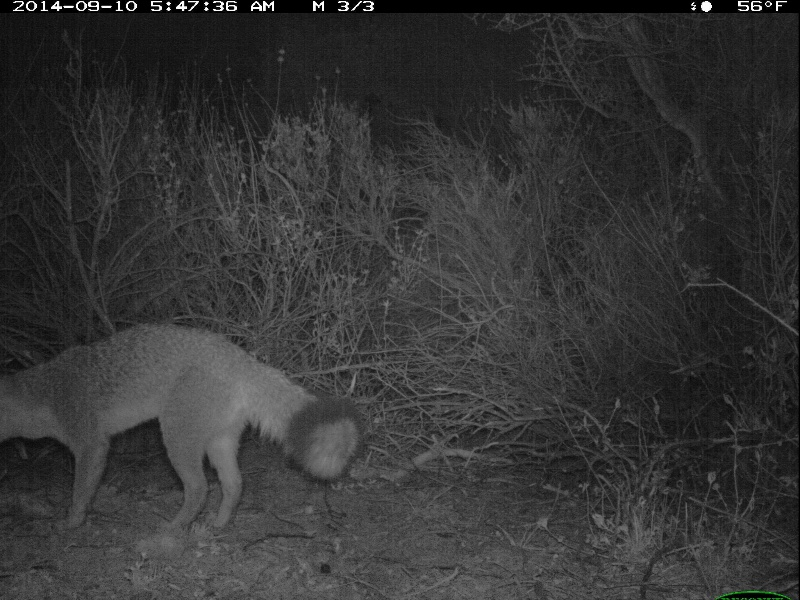fox: (1, 323, 362, 543)
